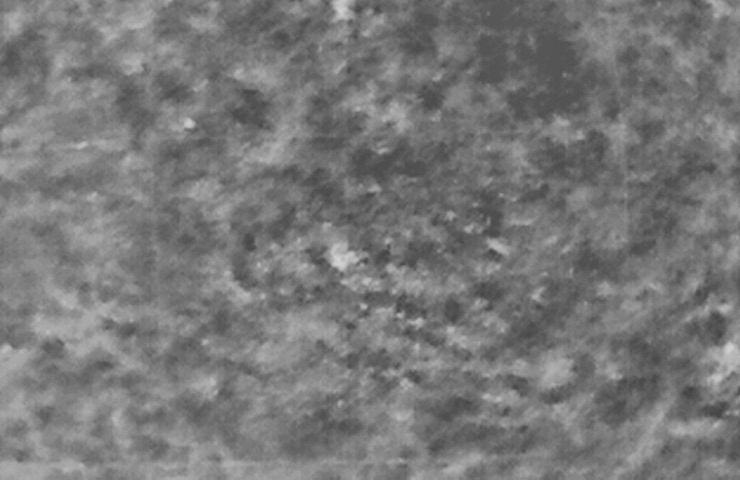landmines: (328, 241, 363, 273)
